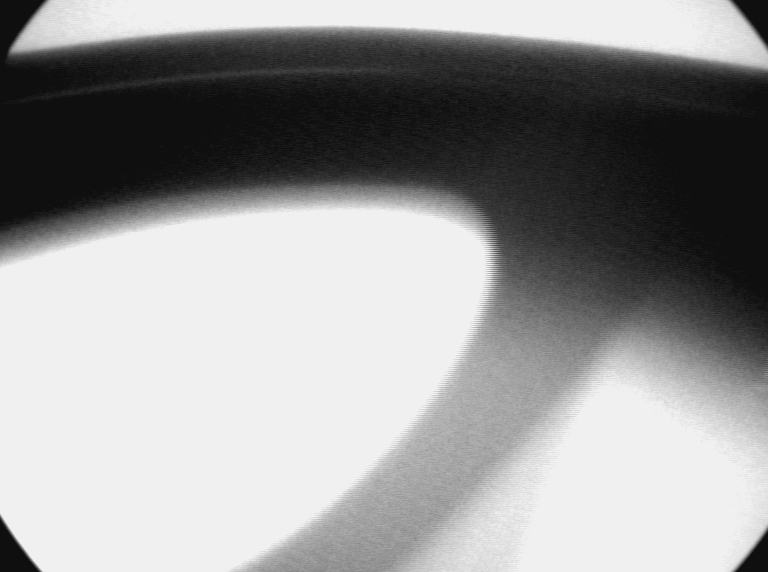defect: (749, 376, 767, 399)
